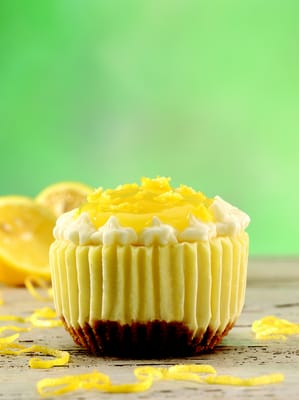sushi: (47, 176, 251, 359)
